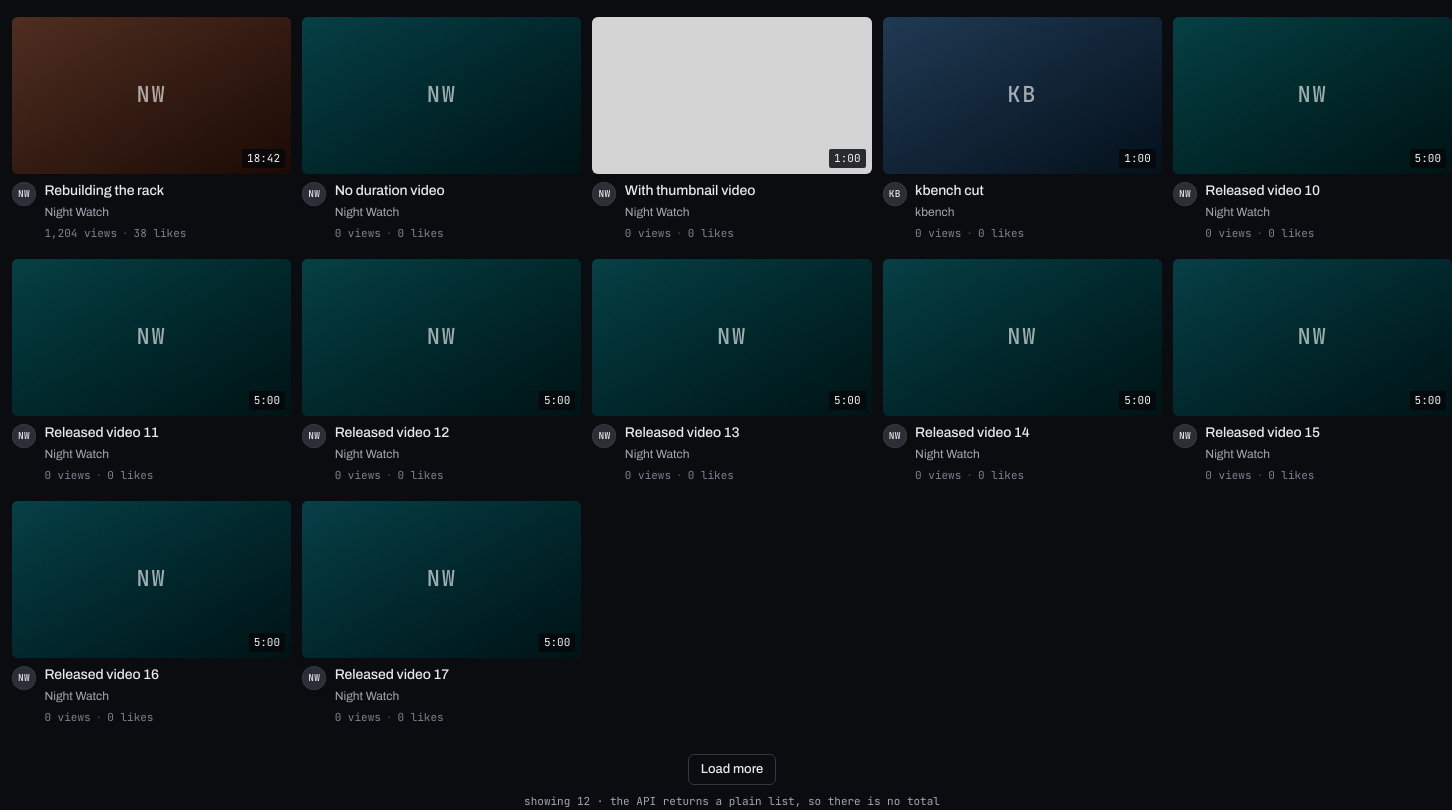
Browse screen › loads the next page on Load more, advancing the offset
This screenshot has width=1452, height=810.
(page scrolled)
expect the text "Released video 10" is shown: met, box x1=1205 y1=183 x2=1320 y2=198
What coordinates should you click on to do the following:
click the button "Load more"
I would click on:
 (732, 770)
Its box is x1=688 y1=754 x2=776 y2=785.
(page scrolled)
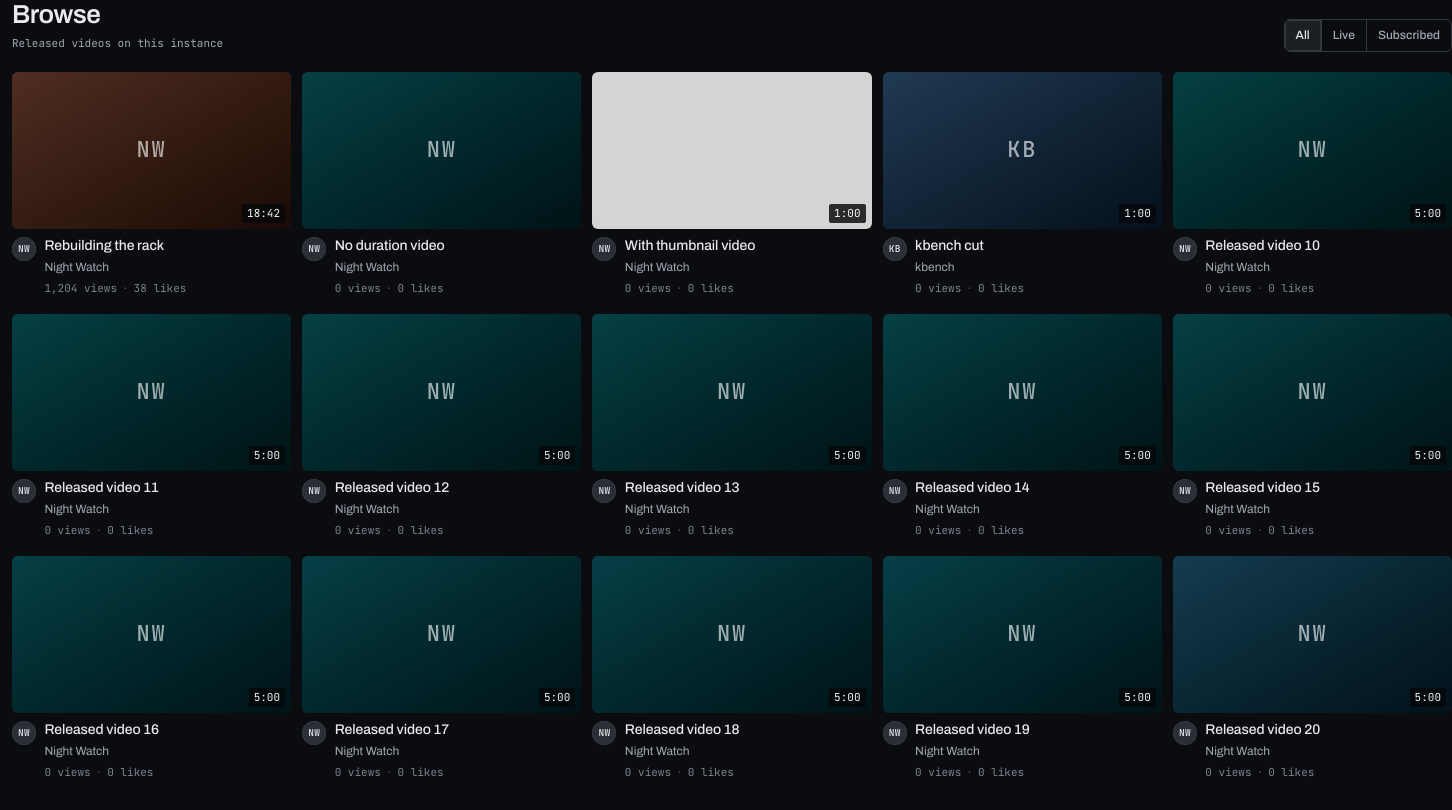
expect the text "Released video 20" is shown: met, box x1=1205 y1=722 x2=1320 y2=737
expect the number of links is 15: met
expect the button "Load more" is gone: met
